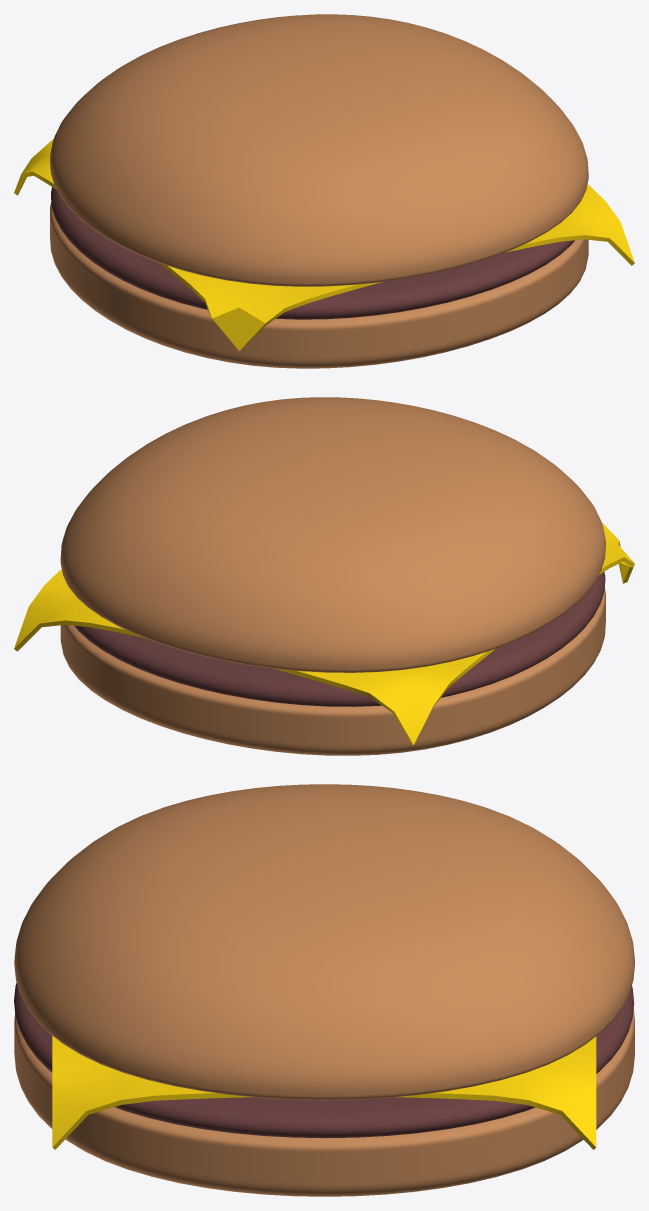
Rendered from hamburger.glb.
3 renders of one model, top to bottom at view 1: azimuth 30°, elevation 25°; view 2: azimuth 150°, elevation 25°; view 3: azimuth 270°, elevation 25°, orthographic. The views are drawn at different scales.
Visible parts, largest first — view 1: Cube.004, Cube, Cube.001, Plane; view 2: Cube.004, Cube, Cube.001, Plane; view 3: Cube.004, Cube, Cube.001, Plane.
Boxes of the visible parts, x1,y1,x2,y2 form: Cube.004: [50, 14, 588, 286]; Cube: [50, 202, 588, 368]; Cube.001: [51, 187, 574, 319]; Plane: [14, 139, 634, 350]; Cube.004: [60, 397, 605, 672]; Cube: [60, 588, 605, 755]; Cube.001: [74, 572, 605, 706]; Plane: [14, 523, 634, 745]; Cube.004: [14, 784, 634, 1100]; Cube: [14, 1009, 634, 1196]; Cube.001: [14, 983, 634, 1138]; Plane: [52, 1036, 596, 1149].
Bounding box in the file's own units: 8.82 × 3.84 × 8.82.
